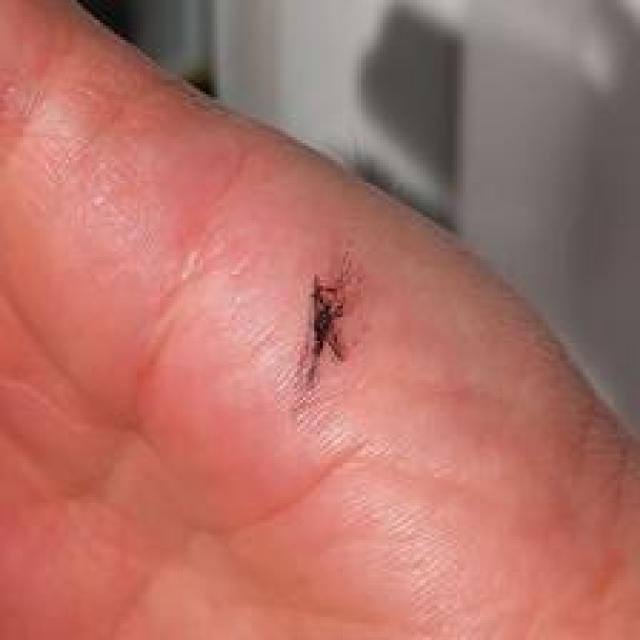Aedes albopictus: (299, 273, 347, 384)
